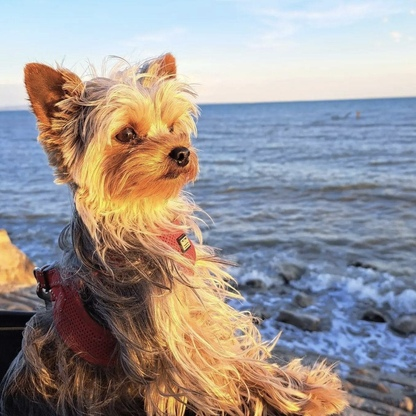yorkshire: (15, 52, 352, 415)
